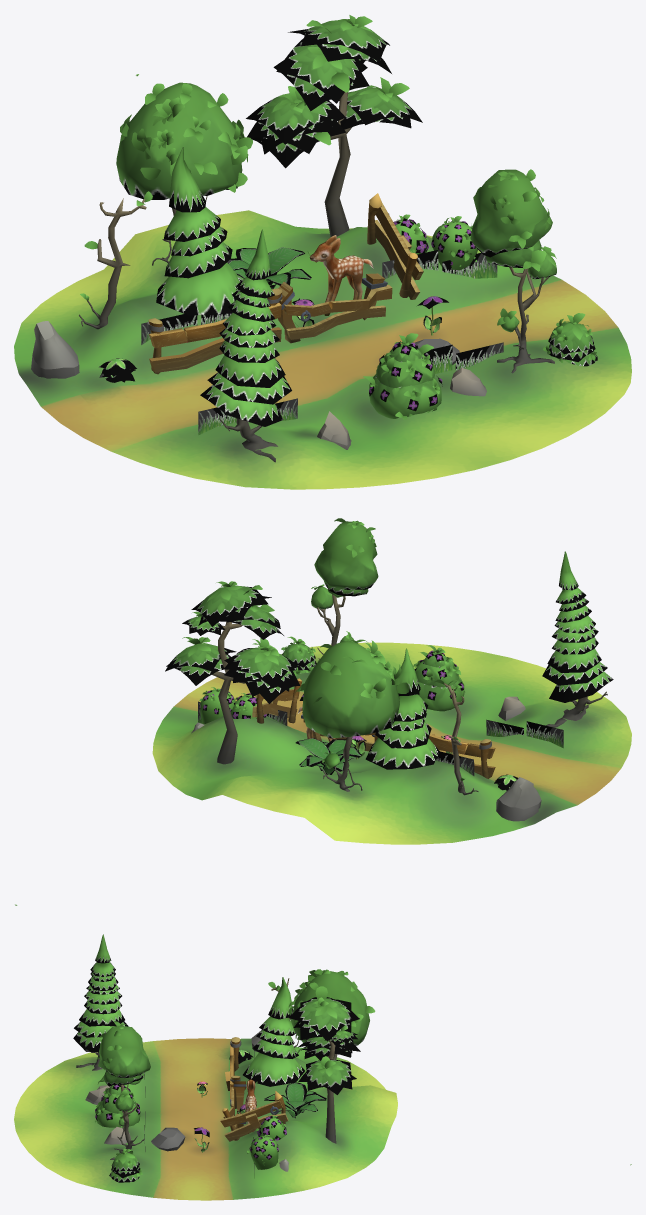
Rendered from forest.glb.
3 renders of one model, top to bottom at view 1: azimuth 30°, elevation 25°; view 2: azimuth 150°, elevation 25°; view 3: azimuth 270°, elevation 25°, orthographic. The views are drawn at different scales.
Visible parts, largest first — view 1: Object_2; view 2: Object_2; view 3: Object_2.
Boxes of the visible parts, x1,y1,x2,y2 form: Object_2: (14,15,631,489); Object_2: (15,518,631,905); Object_2: (14,934,631,1200).
Size of the model in its own units: 65.09 by 30.76 by 105.
Materials: 1 (1 with a texture image).
